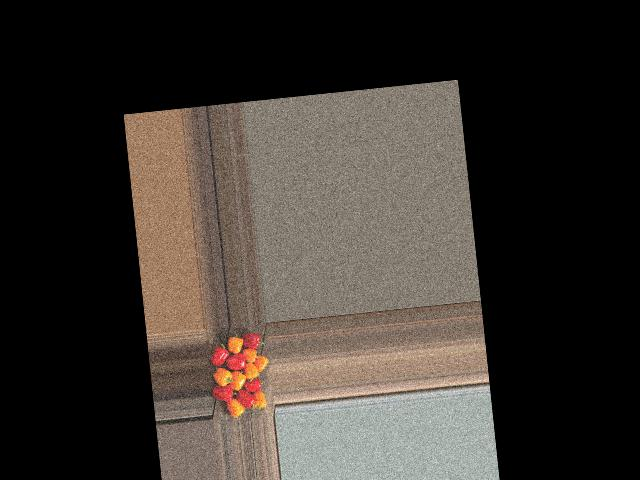bell_pepper: (222, 392, 245, 419)
